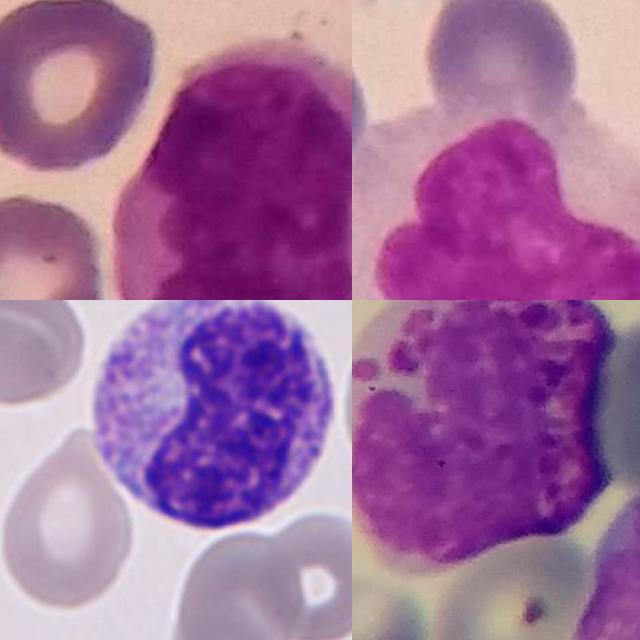Basophil: (352, 300, 615, 579)
Lymphocyte: (78, 300, 347, 543)
Monocyte: (111, 34, 352, 300), (352, 85, 640, 300), (568, 422, 640, 640)
RBC: (0, 421, 139, 615), (169, 523, 299, 640), (251, 505, 352, 640), (0, 302, 70, 411)
